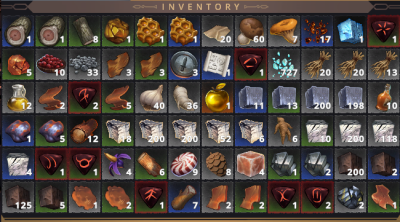ash heartwood: (1, 15, 35, 48), (36, 16, 66, 46)
ash log: (70, 16, 99, 46)
aurelium ore: (100, 15, 133, 46)
chaos ember: (301, 15, 331, 47)
copper ore: (2, 50, 35, 79)
durable hide: (102, 49, 133, 79), (136, 49, 166, 80)
ethereal dust: (268, 49, 301, 81)
flexible hide: (102, 81, 133, 113), (35, 83, 67, 112)
granite stone: (268, 82, 300, 113), (335, 82, 367, 113), (235, 82, 267, 112), (301, 82, 333, 112)
iron ore: (2, 115, 35, 145), (35, 116, 66, 146)
limestone stone: (136, 115, 167, 145), (169, 115, 199, 145), (102, 116, 133, 145), (202, 116, 233, 145), (235, 116, 266, 145)
marble stone: (2, 148, 33, 179), (303, 115, 333, 145), (368, 116, 399, 144), (336, 115, 365, 144)
oak log: (134, 148, 166, 179)
silver ore: (268, 148, 299, 179), (301, 148, 333, 178)
slate stone: (2, 182, 34, 213), (35, 181, 67, 211), (335, 149, 365, 179), (369, 149, 399, 179)
soft hide: (102, 181, 133, 211), (69, 182, 98, 211)
spruce log: (170, 182, 199, 211)
strong hide: (201, 182, 233, 213), (235, 181, 266, 212)
tin ore: (336, 180, 366, 213)
tough hide: (368, 181, 399, 212)
